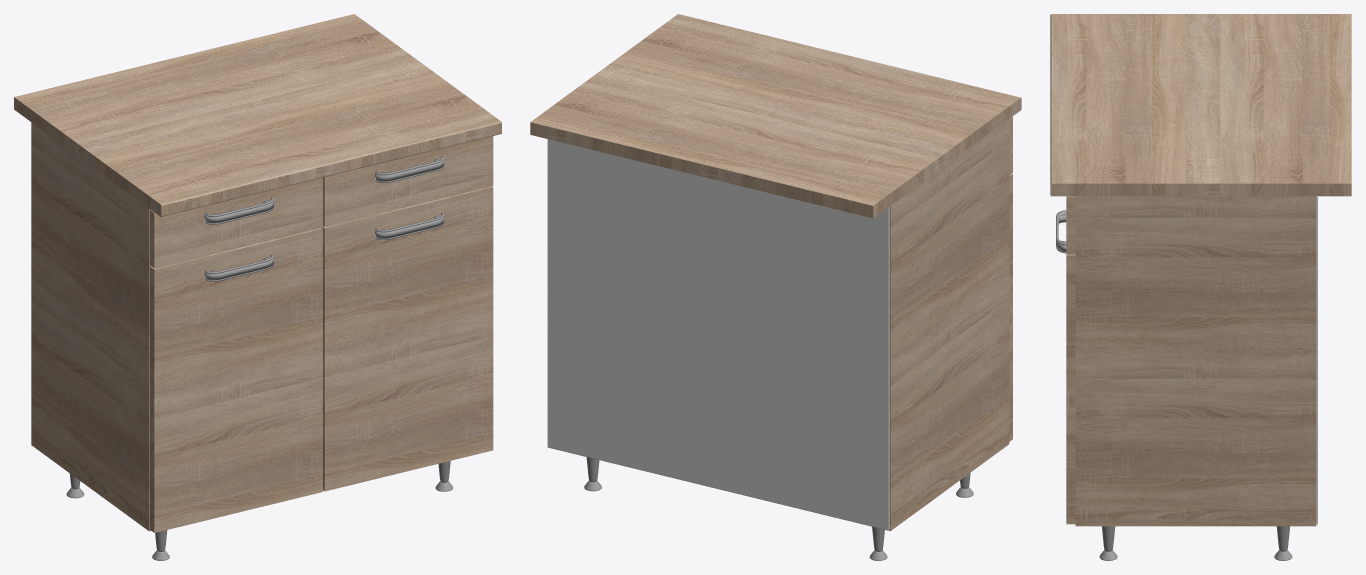
The picture shows the model from 3 angles, left to right: view 1: azimuth 30°, elevation 25°; view 2: azimuth 150°, elevation 25°; view 3: azimuth 270°, elevation 25°; orthographic projection. The views are drawn at different scales.
Parts seen in each view (by area): view 1: s_a2a2f_80_munkalap, s_a2a2f_80_ajto_1, s_a2a2f_80_ajto_2, s_a2a2f_80_korpusz, s_a2a2f_80_fiok_1, s_a2a2f_80_fiok_2, s_a2a2f_80_fogo_1, s_a2a2f_80_fogo_3, s_a2a2f_80_fogo_2, s_a2a2f_80_fogo_4; view 2: s_a2a2f_80_korpusz, s_a2a2f_80_munkalap, s_a2a2f_80_ajto_1; view 3: s_a2a2f_80_korpusz, s_a2a2f_80_munkalap, s_a2a2f_80_ajto_2, s_a2a2f_80_fiok_2, s_a2a2f_80_lab_je, s_a2a2f_80_lab_jh.
Part boxes in pixels (bbox=[...]): s_a2a2f_80_munkalap: bbox=[14, 14, 501, 216]; s_a2a2f_80_ajto_1: bbox=[150, 228, 322, 532]; s_a2a2f_80_ajto_2: bbox=[322, 186, 493, 491]; s_a2a2f_80_korpusz: bbox=[31, 122, 150, 531]; s_a2a2f_80_fiok_1: bbox=[150, 177, 322, 268]; s_a2a2f_80_fiok_2: bbox=[323, 136, 493, 226]; s_a2a2f_80_fogo_1: bbox=[204, 197, 273, 224]; s_a2a2f_80_fogo_3: bbox=[204, 254, 273, 281]; s_a2a2f_80_fogo_2: bbox=[375, 156, 443, 182]; s_a2a2f_80_fogo_4: bbox=[375, 213, 443, 239]; s_a2a2f_80_korpusz: bbox=[547, 119, 1009, 530]; s_a2a2f_80_munkalap: bbox=[530, 14, 1021, 218]; s_a2a2f_80_ajto_1: bbox=[1009, 174, 1012, 441]; s_a2a2f_80_korpusz: bbox=[1075, 196, 1317, 526]; s_a2a2f_80_munkalap: bbox=[1050, 14, 1351, 196]; s_a2a2f_80_ajto_2: bbox=[1066, 254, 1075, 524]; s_a2a2f_80_fiok_2: bbox=[1066, 196, 1075, 254]; s_a2a2f_80_lab_je: bbox=[1099, 526, 1117, 560]; s_a2a2f_80_lab_jh: bbox=[1274, 526, 1292, 560].
Bounding box in the file's own units: 0.8 × 0.853 × 0.6.
7 materials, 4 textured.
